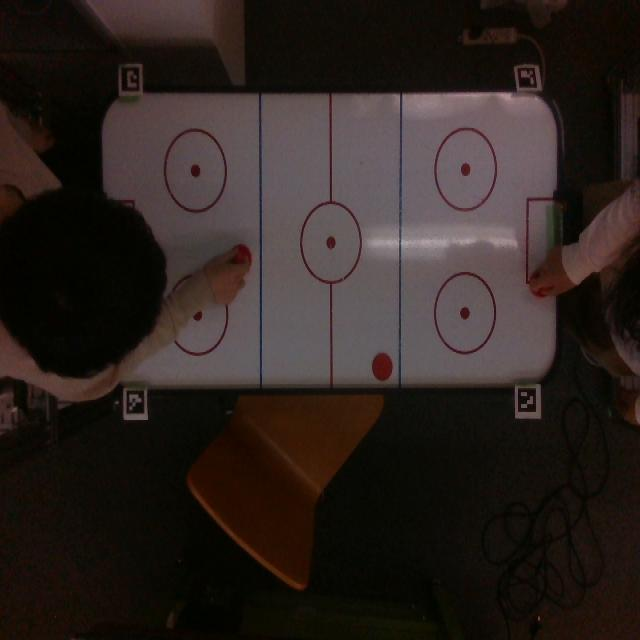puck: (372, 352, 393, 381)
